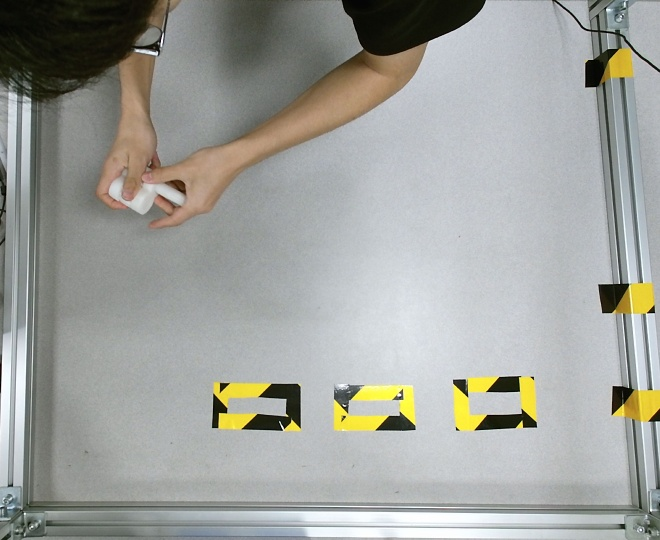stage_4: (109, 167, 187, 214)
